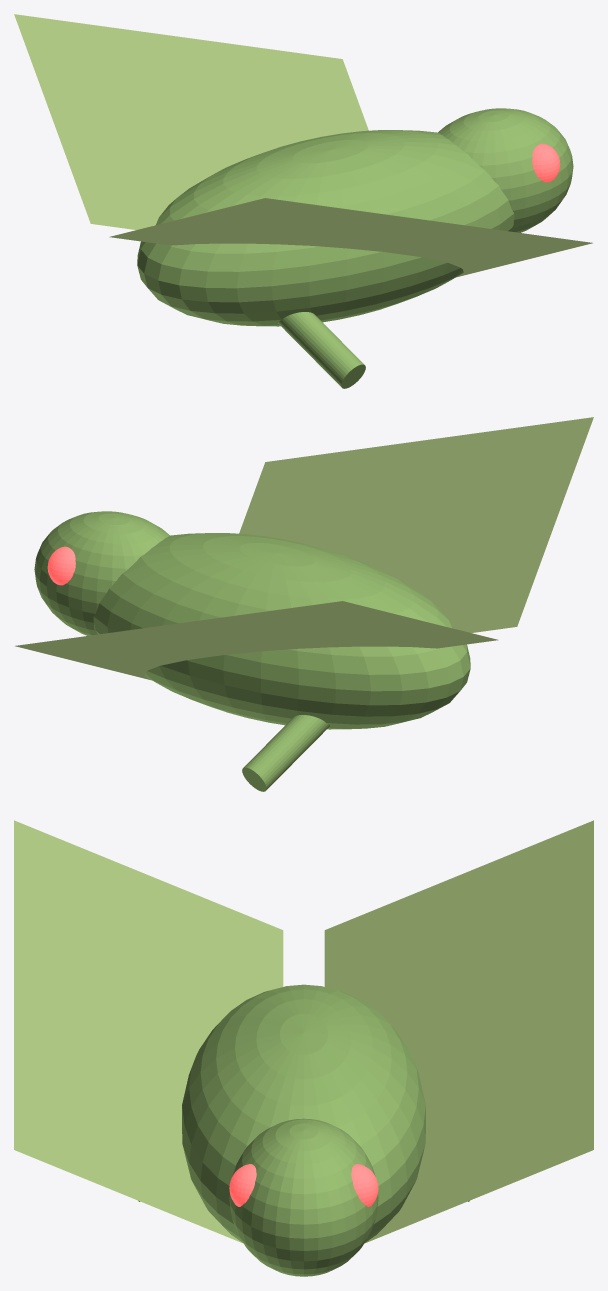
The model's file is locust_boss.glb.
3 views of the same model, one above another, from view 1: azimuth 30°, elevation 25°; view 2: azimuth 150°, elevation 25°; view 3: azimuth 270°, elevation 25° (orthographic). The views are drawn at different scales.
Visible parts, largest first — view 1: Plane.001, Sphere, Plane, Sphere.001, Cylinder, Sphere.002; view 2: Plane, Sphere, Plane.001, Sphere.001, Cylinder.001, Sphere.003; view 3: Plane, Plane.001, Sphere, Sphere.001, Sphere.002, Sphere.003.
Boxes of the visible parts, box(x1,y1,x2,y2) form: Plane.001: box(14, 14, 368, 229); Sphere: box(137, 130, 514, 326); Plane: box(109, 198, 592, 277); Sphere.001: box(438, 108, 573, 232); Cylinder: box(278, 312, 365, 388); Sphere.002: box(532, 143, 560, 182); Plane: box(239, 417, 593, 632); Sphere: box(93, 533, 470, 729); Plane.001: box(15, 601, 498, 680); Sphere.001: box(34, 511, 169, 635); Cylinder.001: box(242, 715, 329, 791); Sphere.003: box(47, 546, 75, 585); Plane: box(14, 820, 283, 1243); Plane.001: box(324, 820, 593, 1243); Sphere: box(182, 984, 425, 1242); Sphere.001: box(229, 1118, 378, 1276); Sphere.002: box(229, 1164, 256, 1206); Sphere.003: box(351, 1164, 378, 1206).
Bounding box in the file's own units: 1 × 0.5377 × 0.933.
